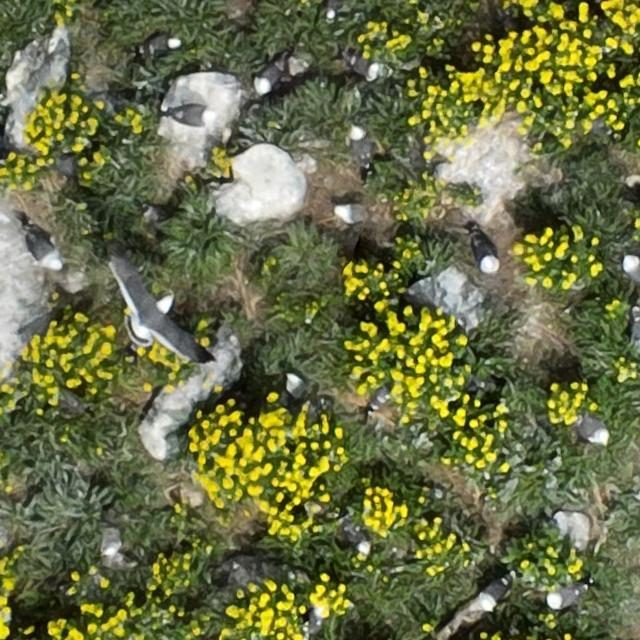F: (114, 252, 196, 356)
umineko: (18, 216, 68, 271), (476, 572, 517, 613), (580, 415, 611, 449), (172, 108, 218, 130), (341, 522, 368, 553), (256, 60, 282, 92), (347, 55, 380, 78), (546, 586, 580, 608), (474, 237, 496, 271), (352, 127, 372, 161), (143, 37, 178, 55), (622, 256, 639, 286), (335, 204, 361, 223), (285, 374, 304, 397), (326, 0, 341, 18)
